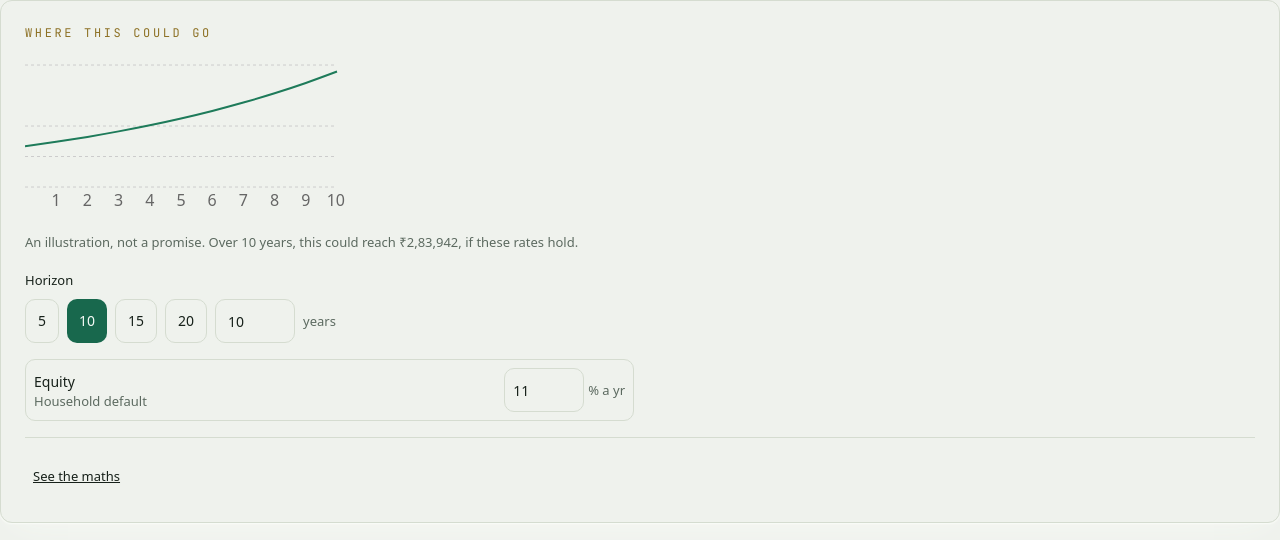
Scenario: ProjectionPanel › horizon control (E7) › clicking a preset chip sets the horizon and persists it via PUT
Click the button "20" at coordinates (186, 321), box left=165, top=299, right=207, bottom=343
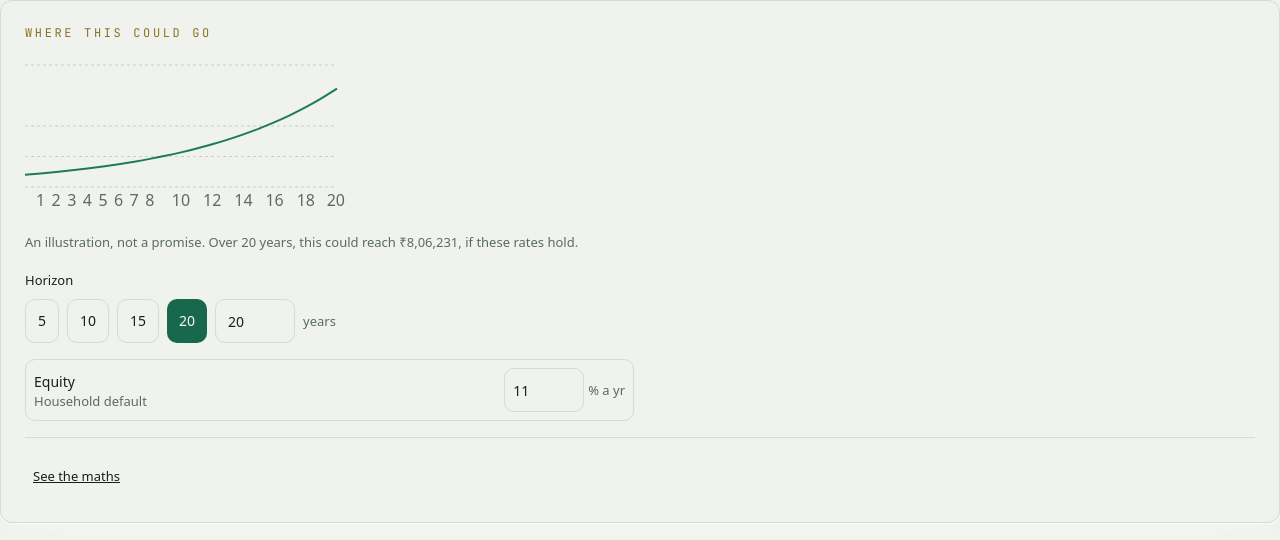
Now the text "Over 20 years" is shown, box left=25, top=233, right=578, bottom=251
